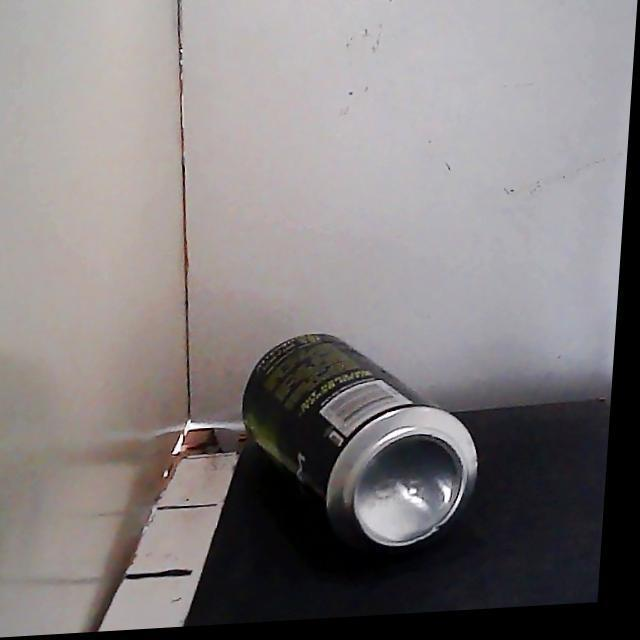metal: (242, 335, 477, 548)
